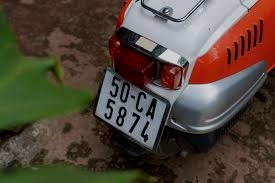Bien-so: (92, 69, 172, 155)
